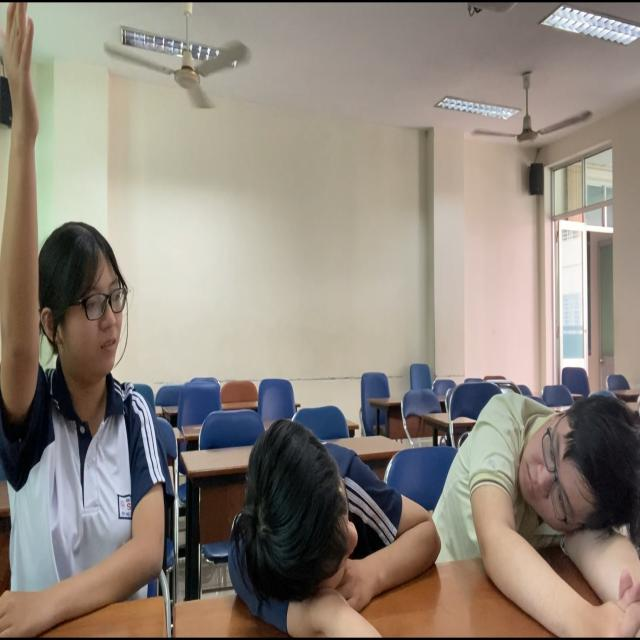raise_hand: (1, 1, 178, 640), (227, 402, 228, 403)
